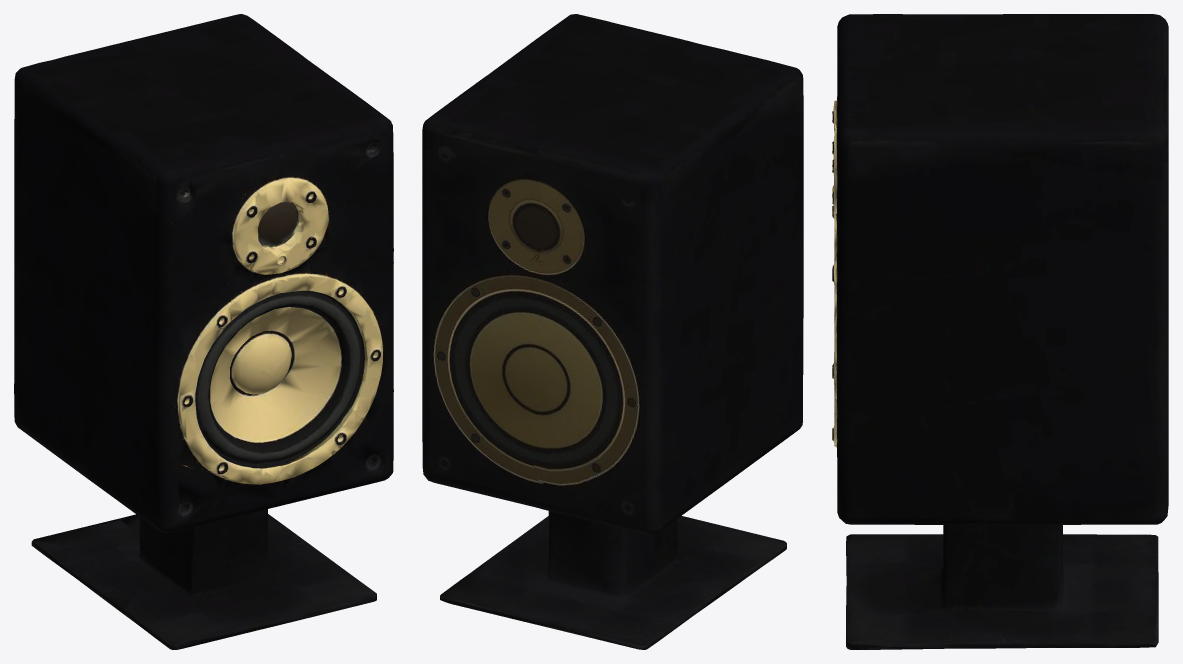
File: monitor.glb
The picture shows the model from 3 angles, left to right: view 1: azimuth 30°, elevation 25°; view 2: azimuth 150°, elevation 25°; view 3: azimuth 270°, elevation 25°; orthographic projection. The views are drawn at different scales.
Size of the model in its own units: 0.9797 by 1.9 by 1.11.
1 material, 1 textured.
